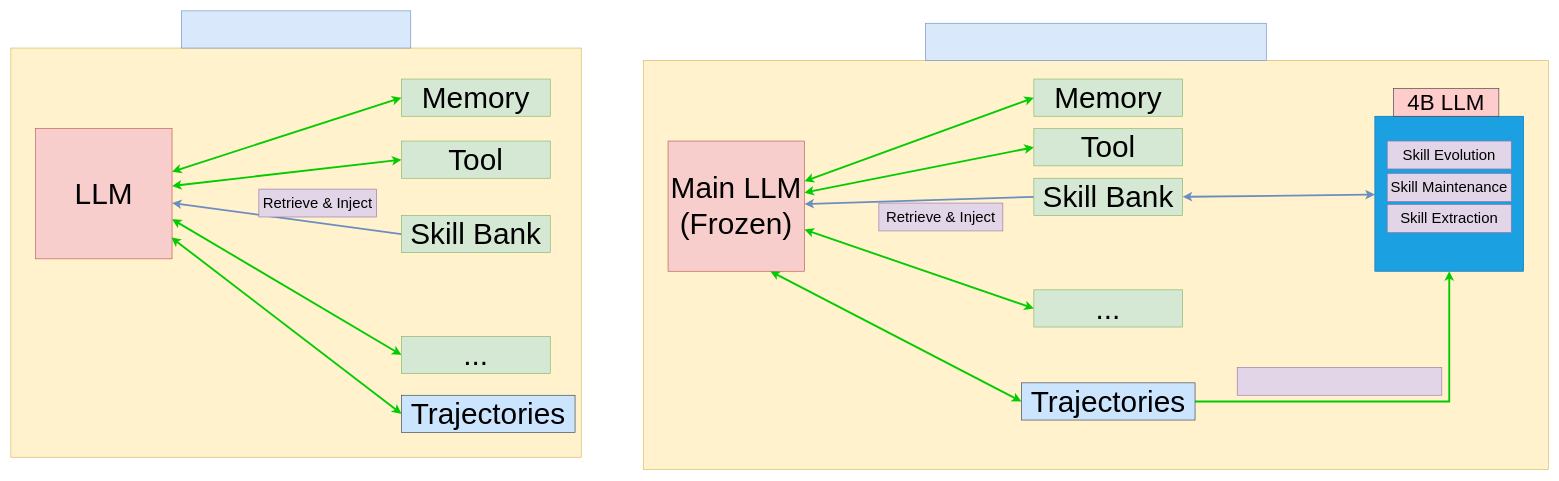
Some shapes in this 1559 by 481 pixel diagram are drawn without their labels. Each missing label, with the centre of its shape:
"Agent with CODESKILL" belongs at point 1095,41.
"Calculate Reward(Verifier + LLM Judge) ➡ GRPO" belongs at point 1339,381.
"Traditional Agent" belongs at point 296,29.
